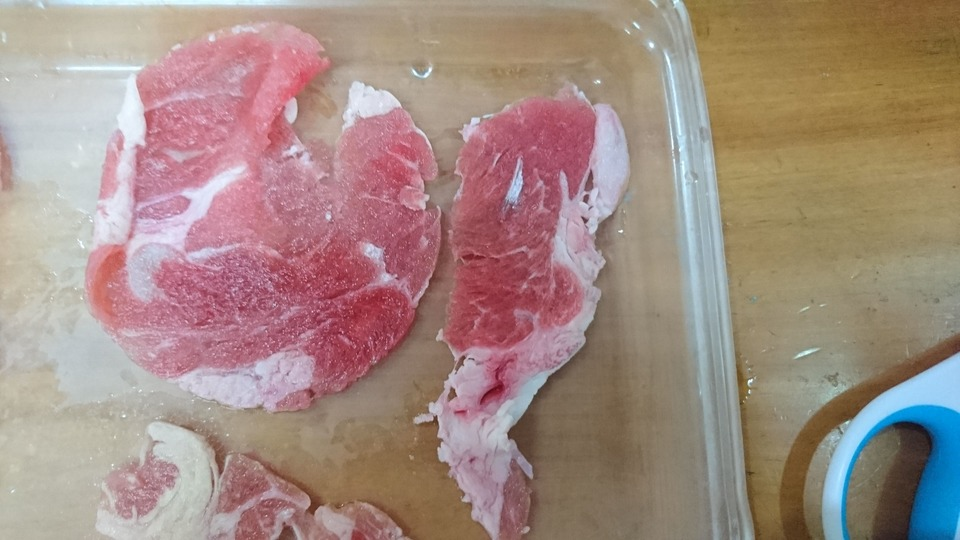restructured meat: (97, 26, 423, 411), (426, 57, 636, 540), (103, 424, 412, 537)
